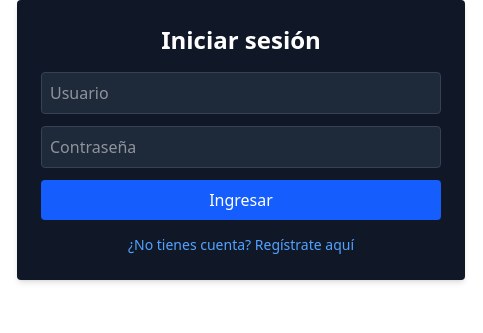
Scenario: LoginForm › muestra error si las credenciales son inválidas
Type "wrong" into the field with placeholder "Usuario".
click(241, 93); type("wrong")  # box [41,72,441,114]
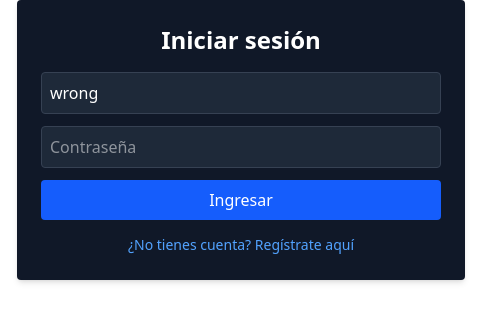
Type "badpass" into the password field with placeholder "Contraseña".
click(241, 147); type("badpass")  # box [41,126,441,168]
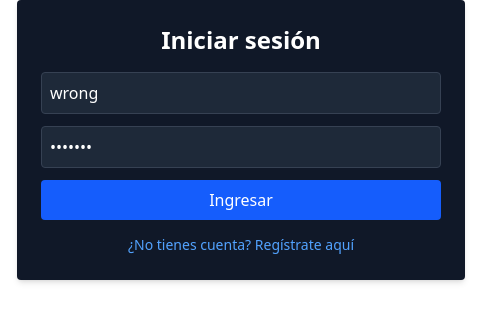
Submit the form from the button "Ingresar", box [41,180,441,220]
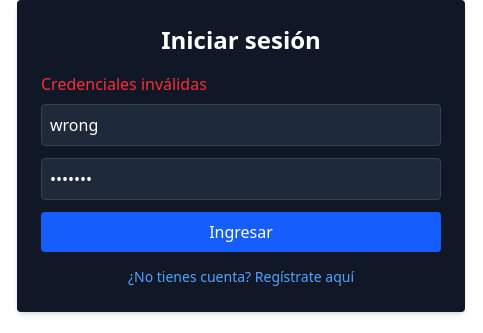
expect the text "Credenciales inválidas" is shown: met, box [41,73,207,95]
